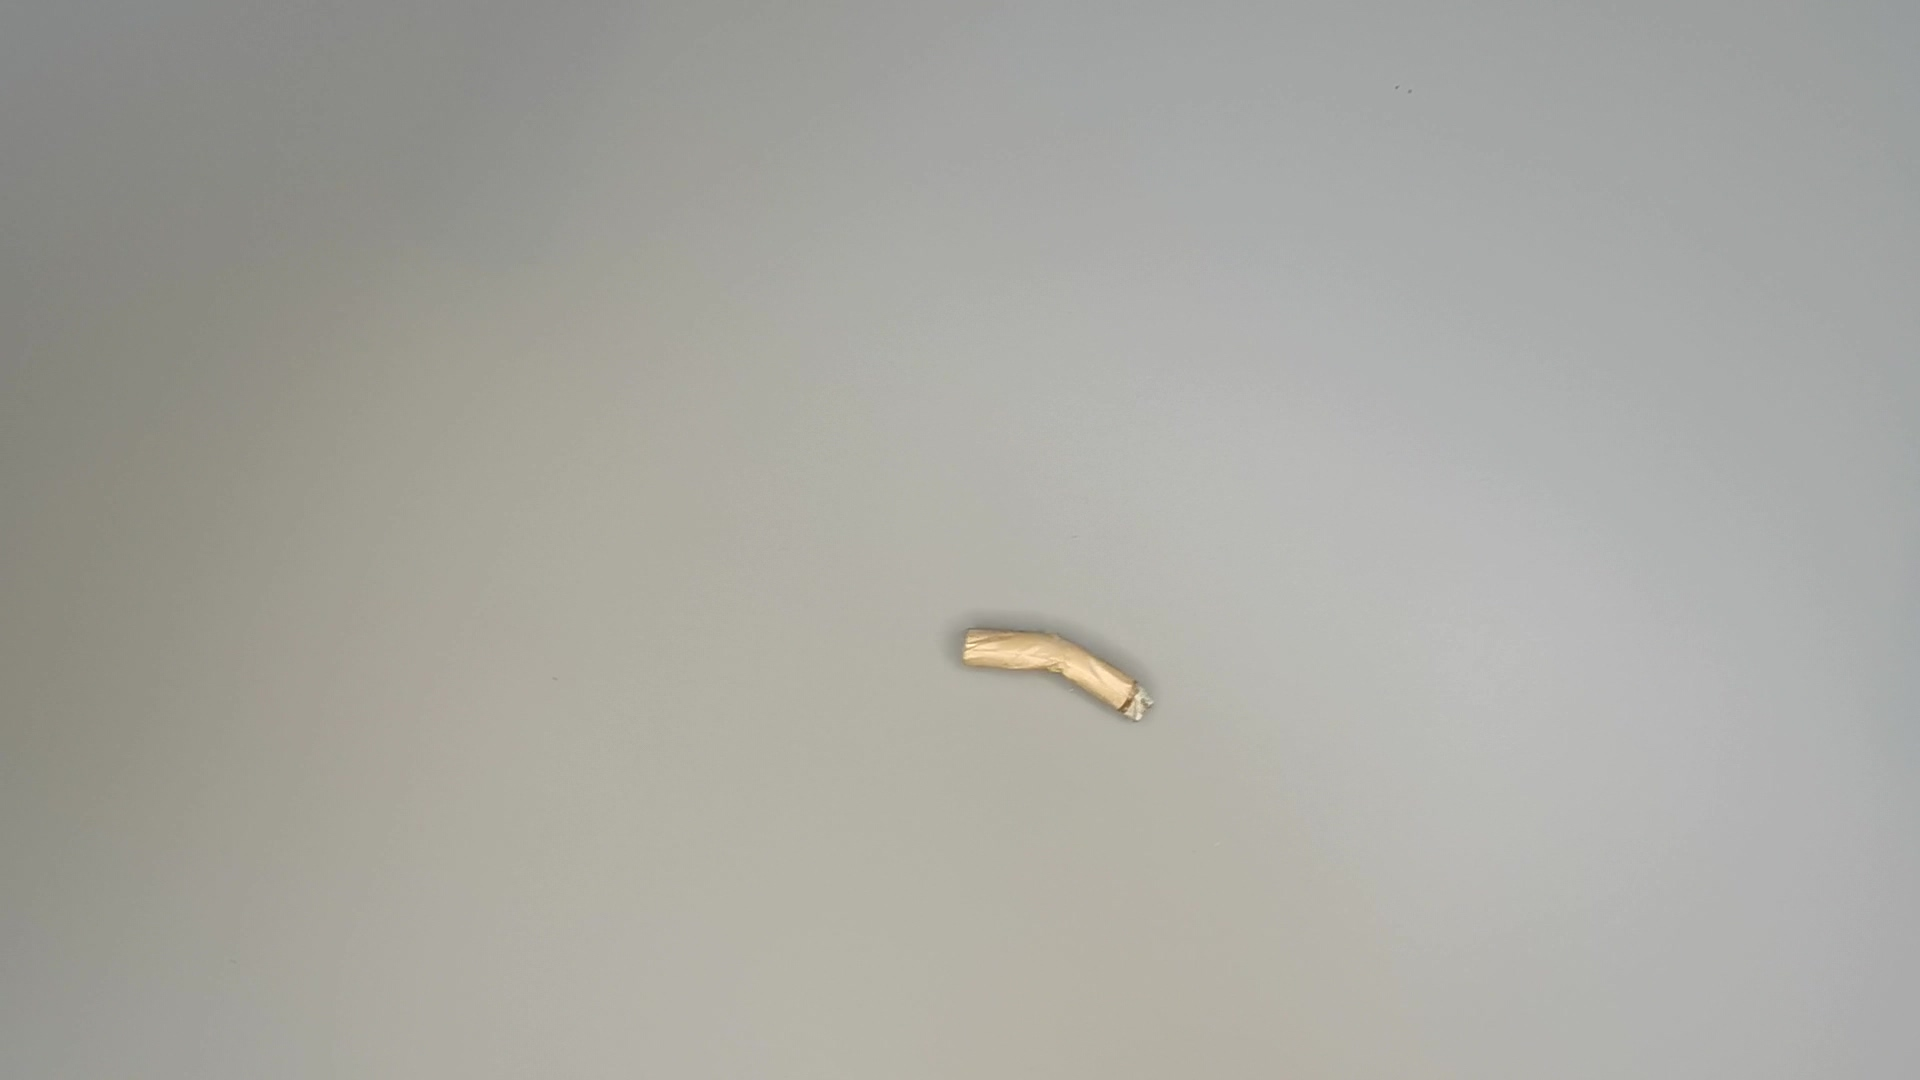cigarette: (963, 622, 1166, 735)
